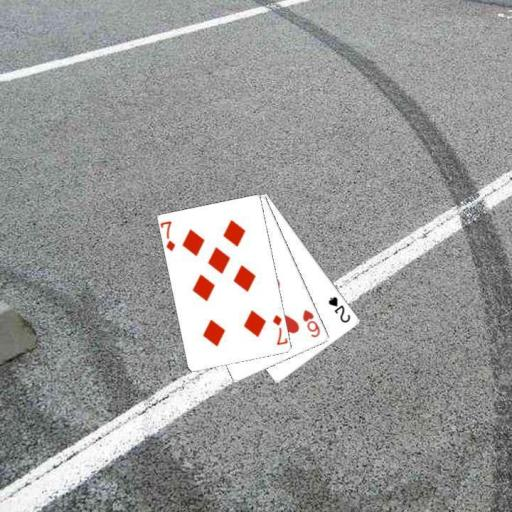card-corner: (325, 294, 352, 324), (300, 307, 322, 339), (270, 311, 288, 347), (159, 218, 177, 253)
